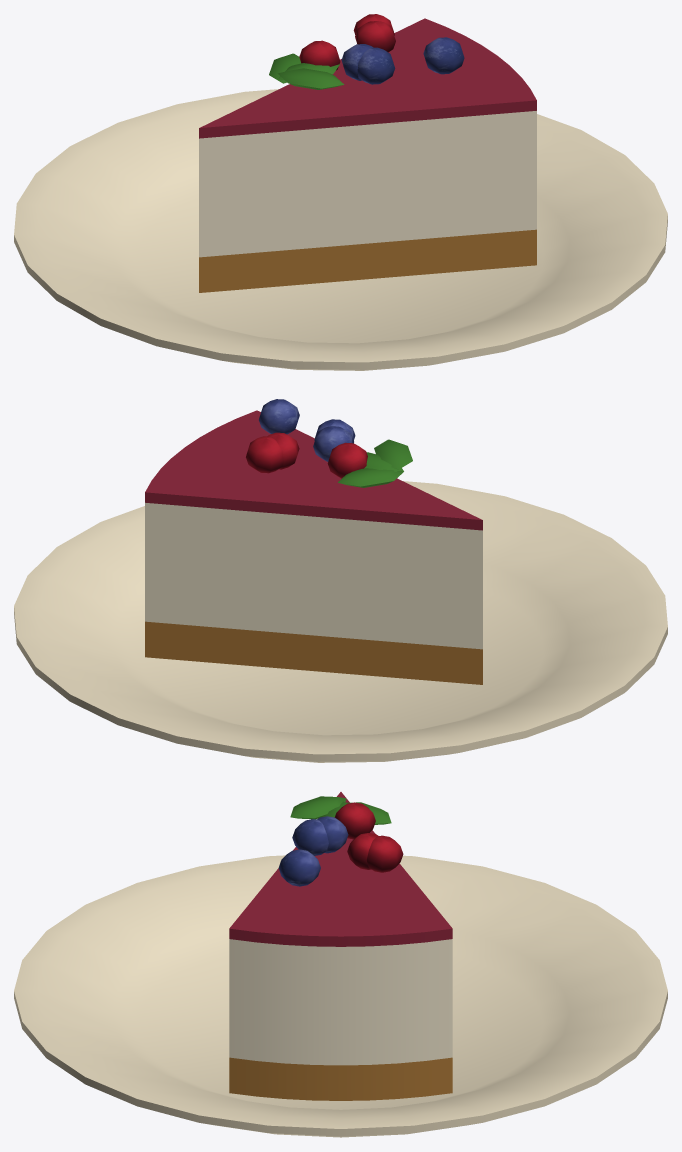
The model's file is dessert_cheesecake_slice.glb.
The picture shows the model from 3 angles, top to bottom: view 1: azimuth 30°, elevation 25°; view 2: azimuth 150°, elevation 25°; view 3: azimuth 270°, elevation 25°; orthographic projection.
Parts seen in each view (by area): view 1: dessert_cheesecake_slice; view 2: dessert_cheesecake_slice; view 3: dessert_cheesecake_slice.
Part boxes in pixels (<box>): dessert_cheesecake_slice: <box>14,14,667,370</box>; dessert_cheesecake_slice: <box>14,399,667,762</box>; dessert_cheesecake_slice: <box>14,792,667,1137</box>.
Bounding box in the file's own units: 0.2 × 0.08 × 0.2.
7 materials, 4 textured.
